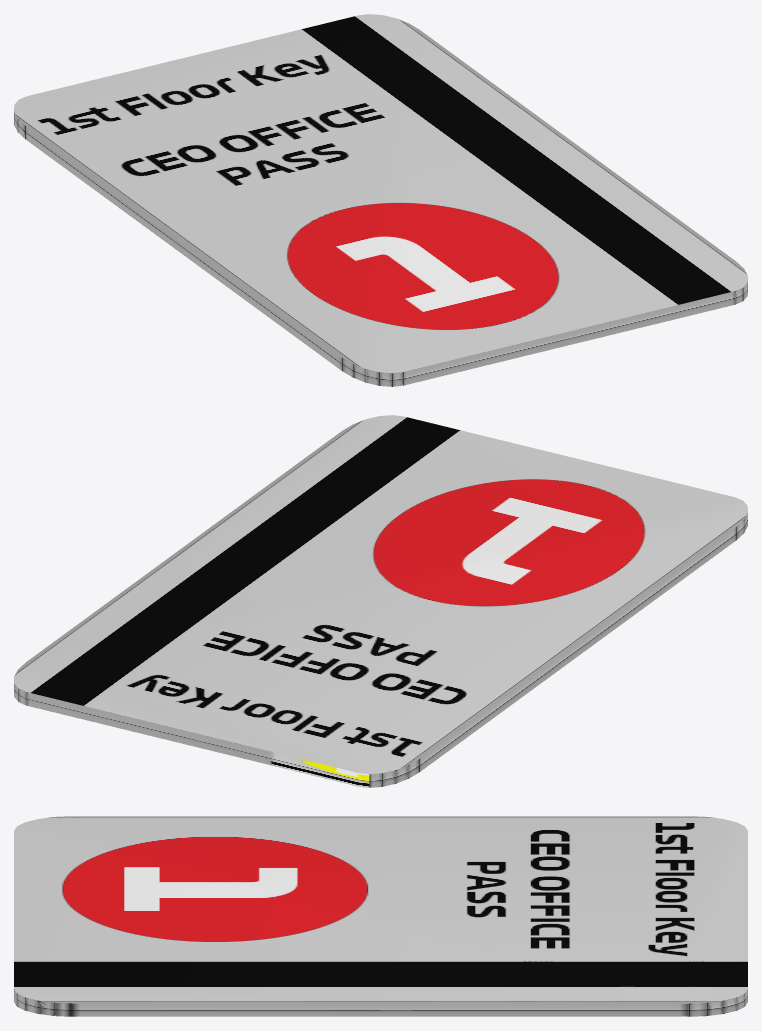
File: KeyCard1.obj
3 views of the same model, one above another, from view 1: azimuth 30°, elevation 25°; view 2: azimuth 150°, elevation 25°; view 3: azimuth 270°, elevation 25° (orthographic). The views are drawn at different scales.
Parts seen in each view (by area): view 1: card_1; view 2: card_1; view 3: card_1.
Part boxes in pixels (x1,y1,x2,y2): card_1: (14,14,747,386); card_1: (14,415,747,787); card_1: (14,816,747,1016).
Size of the model in its own units: 0.1331 by 0.00441 by 0.2204.
